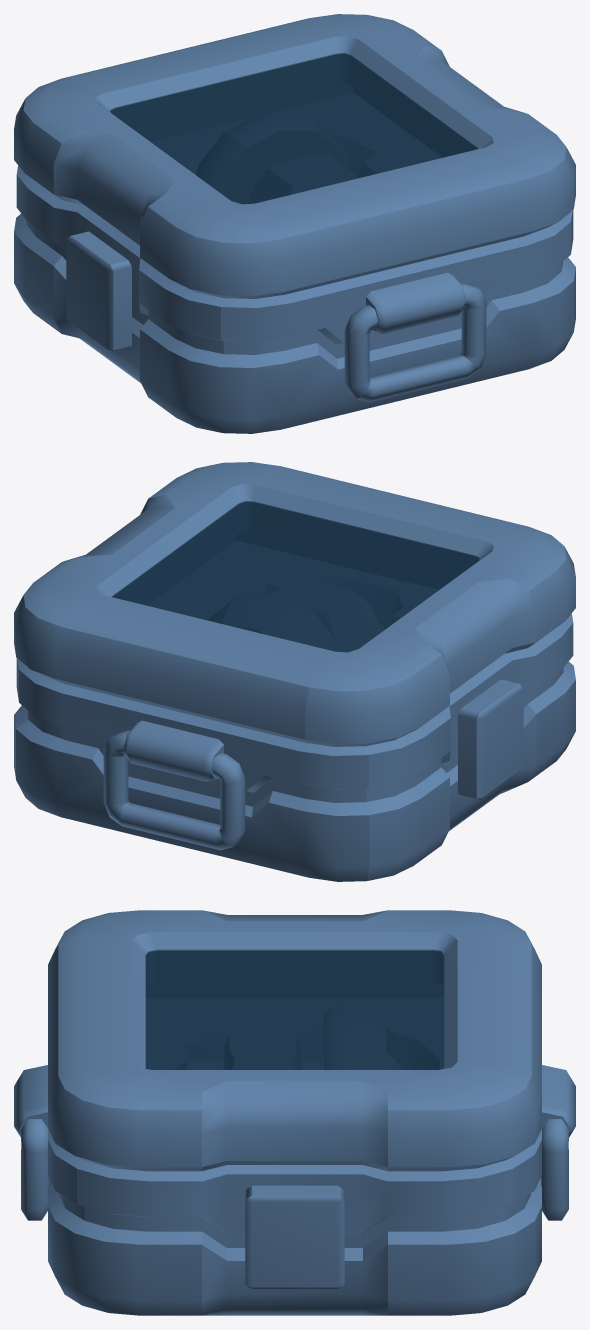
File: obj_consumable_component.fbx
The picture shows the model from 3 angles, top to bottom: view 1: azimuth 30°, elevation 25°; view 2: azimuth 150°, elevation 25°; view 3: azimuth 270°, elevation 25°; orthographic projection. The views are drawn at different scales.
Visible parts, largest first — view 1: obj_consumable_component1; view 2: obj_consumable_component1; view 3: obj_consumable_component1.
Part boxes in pixels (x1,y1,x2,y2): obj_consumable_component1: (14, 14, 575, 433); obj_consumable_component1: (14, 462, 575, 881); obj_consumable_component1: (14, 910, 575, 1315).
Bounding box in the file's own units: 2.1 × 1 × 2.28.
